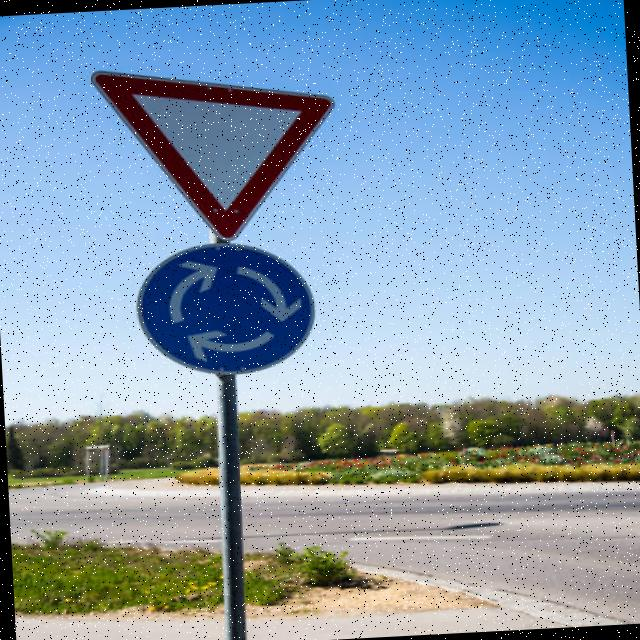give_way: (52, 54, 374, 244)
